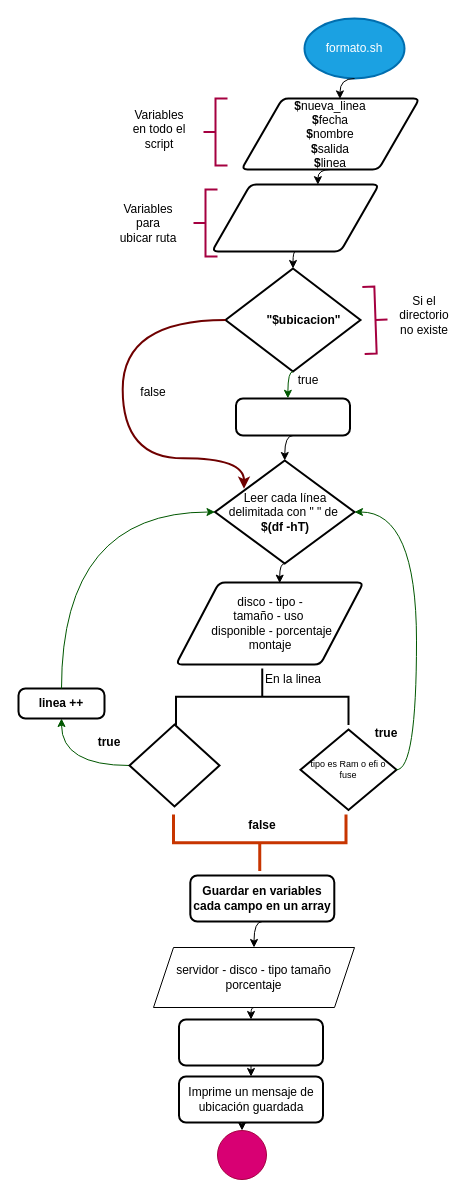
This 471x1197 diagram has some shape labels left out. Here are the shapes that lost their labels. From the top down, the centre of each, then its label:
the point at 295,217: $ directorio_script $ proyecto $ ubicación $ ruta
the point at 292,416: Crea el directorio ./Analizar
the point at 174,765: Primera linea
the point at 251,1042: Gurda cada línea en $ ruta
the point at 241,1155: exit 0
